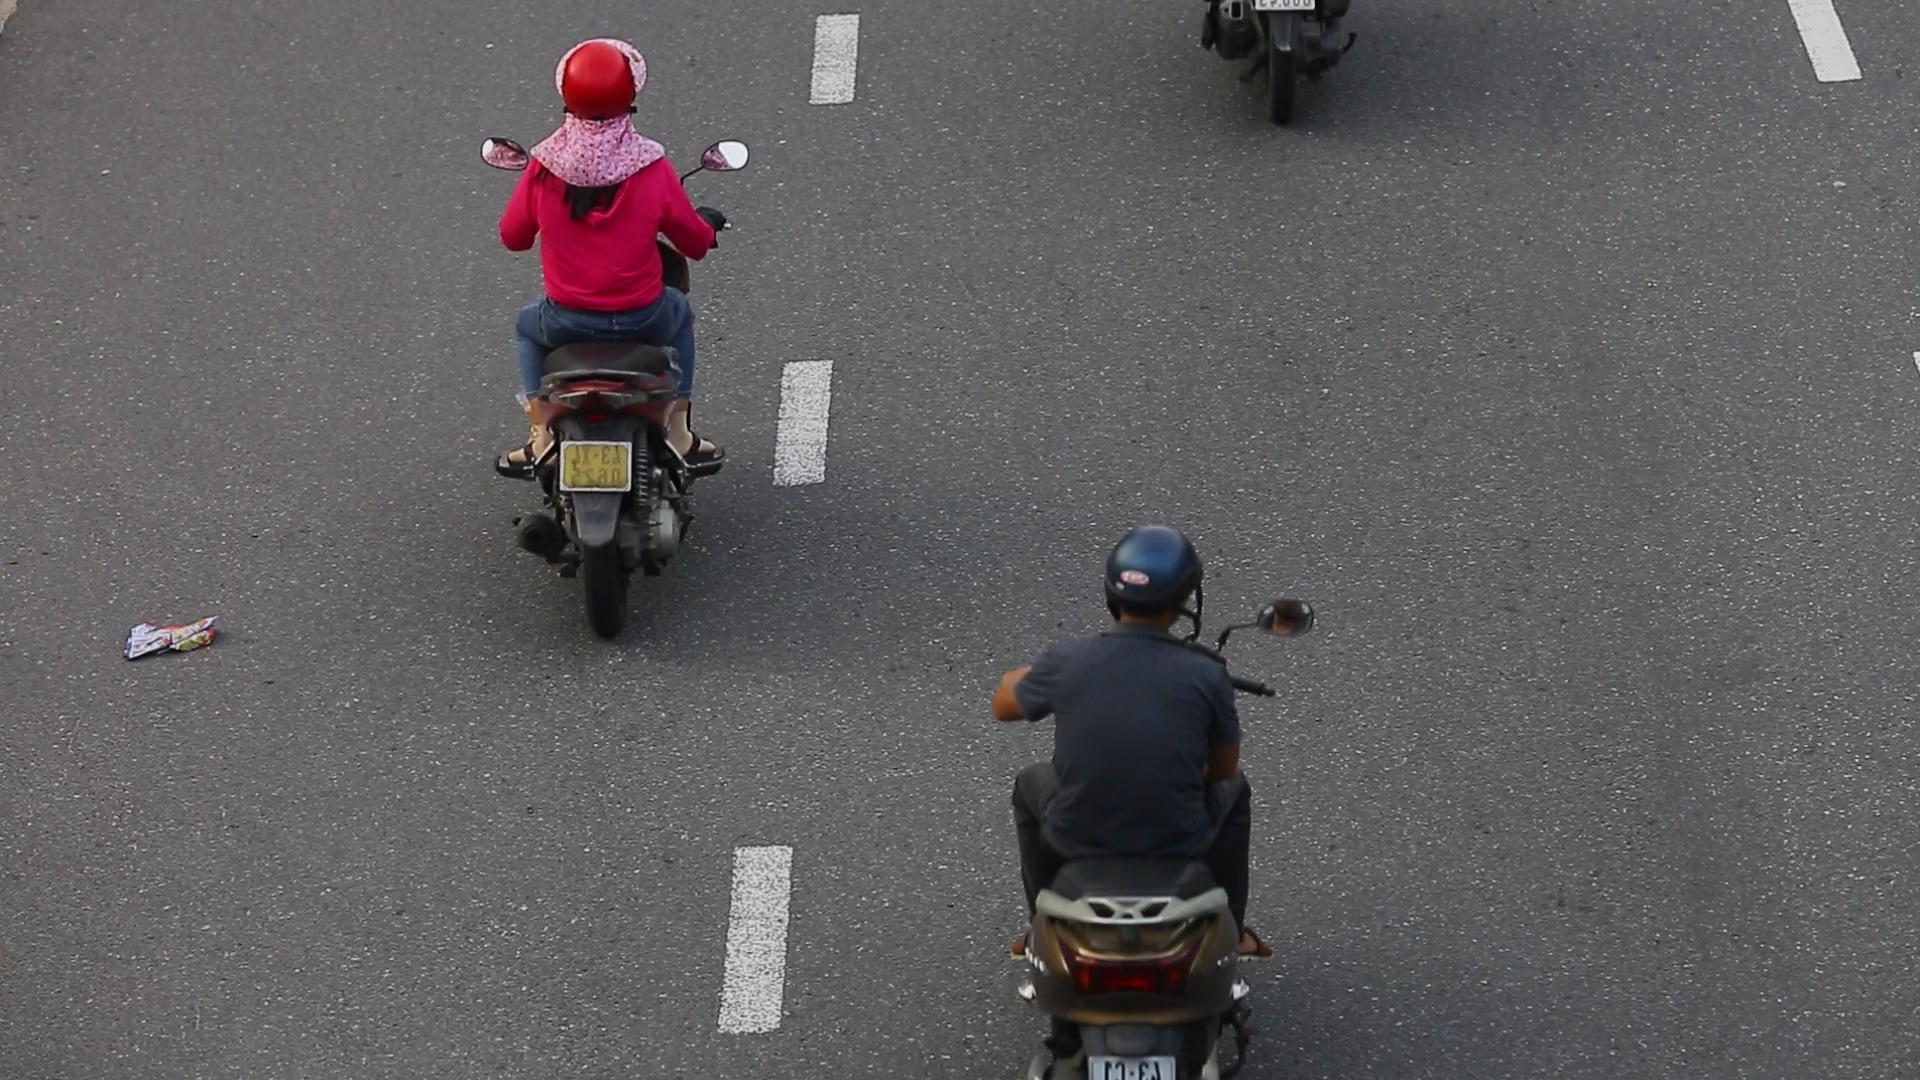motobike: (464, 18, 748, 670)
